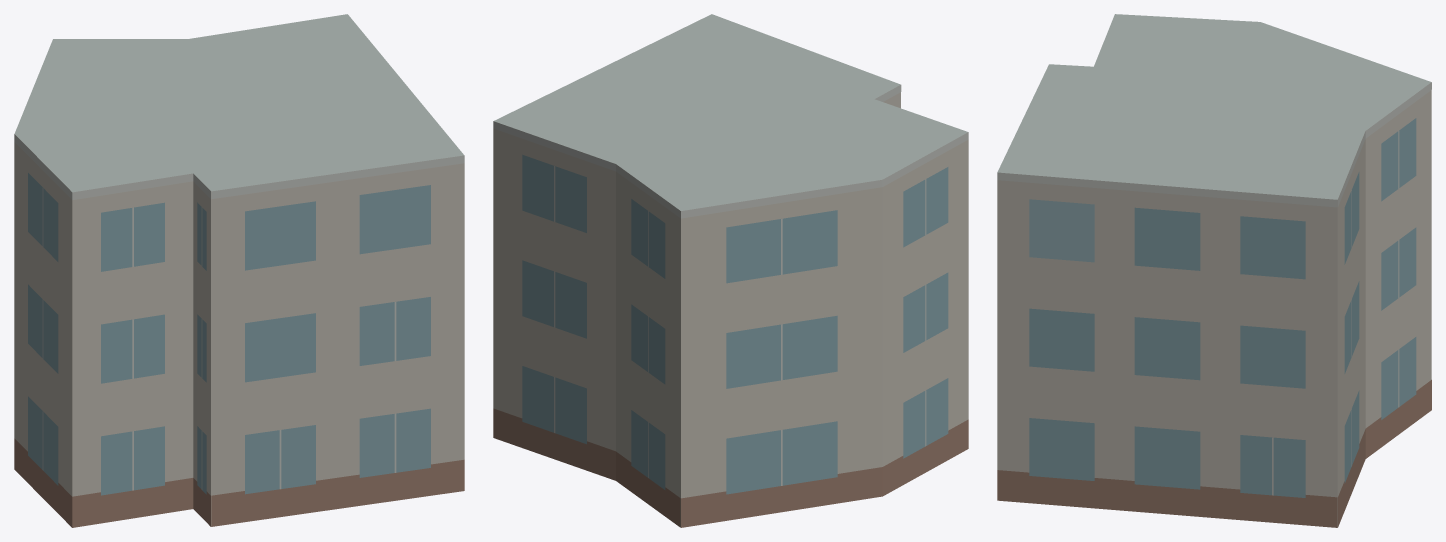
File: survey-upis-33029262.glb
The picture shows the model from 3 angles, left to right: view 1: azimuth 30°, elevation 25°; view 2: azimuth 150°, elevation 25°; view 3: azimuth 270°, elevation 25°; orthographic projection. The views are drawn at different scales.
Parts seen in each view (by area): view 1: survey-upis-33029262.tmp; view 2: survey-upis-33029262.tmp; view 3: survey-upis-33029262.tmp.
Part boxes in pixels (x1,y1,x2,y2): survey-upis-33029262.tmp: (14,14,464,527); survey-upis-33029262.tmp: (493,14,968,527); survey-upis-33029262.tmp: (997,14,1431,527).
Size of the model in its own units: 12.64 by 10.4 by 12.49.
